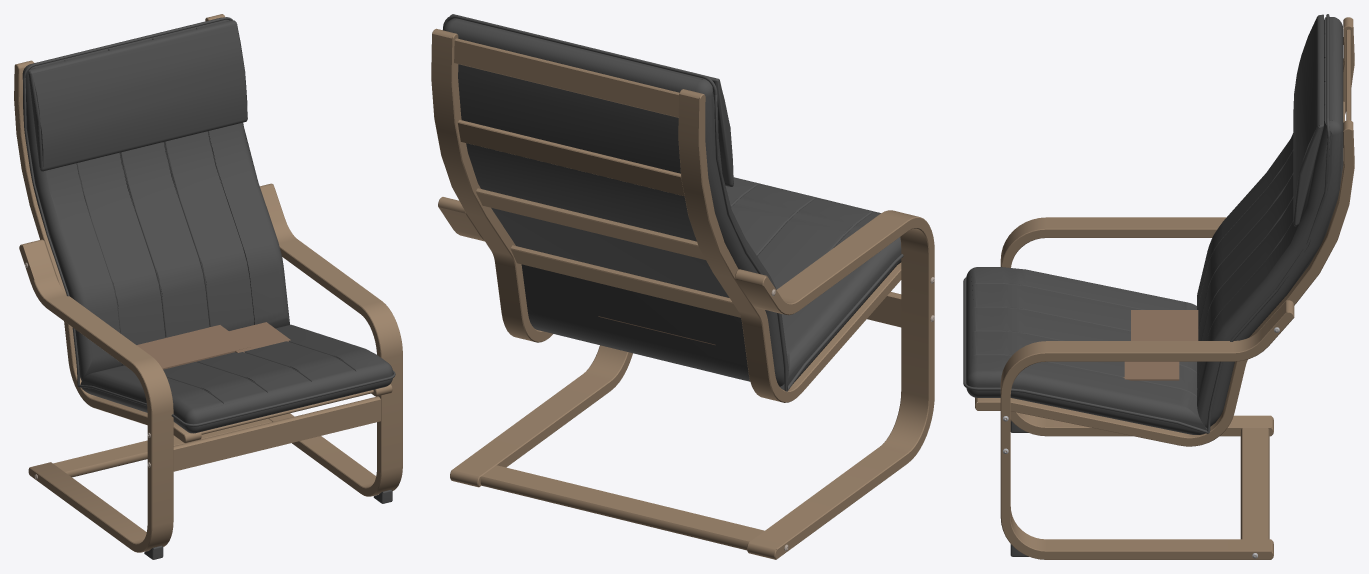
Rendered from Poang3.glb.
3 renders of one model, left to right at view 1: azimuth 30°, elevation 25°; view 2: azimuth 150°, elevation 25°; view 3: azimuth 270°, elevation 25°, orthographic. The views are drawn at different scales.
Parts seen in each view (by area): view 1: Chair, AEP_WearMain, AEP_WearSecondary; view 2: Chair; view 3: Chair, AEP_WearMain, AEP_WearSecondary.
Boxes of the visible parts, box(x1,y1,x2,y2) form: Chair: box(14, 14, 402, 559); AEP_WearMain: box(137, 325, 250, 369); AEP_WearSecondary: box(229, 322, 290, 352); Chair: box(431, 14, 934, 559); Chair: box(963, 14, 1354, 559); AEP_WearMain: box(1131, 310, 1198, 340); AEP_WearSecondary: box(1123, 361, 1179, 380).
Size of what is drawn, in the model's own units: 0.6718 by 0.9761 by 0.8123.
